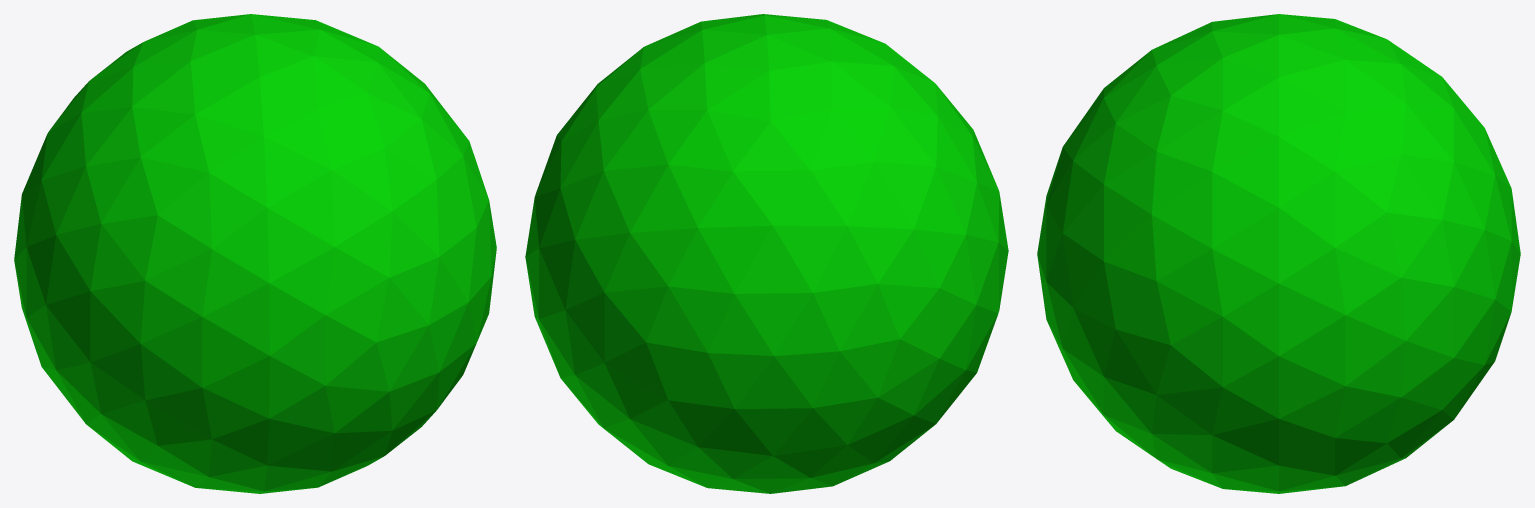
The model's file is barium.fbx.
The picture shows the model from 3 angles, left to right: view 1: azimuth 30°, elevation 25°; view 2: azimuth 150°, elevation 25°; view 3: azimuth 270°, elevation 25°; orthographic projection.
Parts seen in each view (by area): view 1: Shape_IndexedFaceSet; view 2: Shape_IndexedFaceSet; view 3: Shape_IndexedFaceSet.
Part boxes in pixels (bbox=[...]): Shape_IndexedFaceSet: bbox=[14, 14, 496, 493]; Shape_IndexedFaceSet: bbox=[525, 14, 1008, 493]; Shape_IndexedFaceSet: bbox=[1037, 14, 1520, 493].
Bounding box in the file's own units: 1232 × 1232 × 1232.
